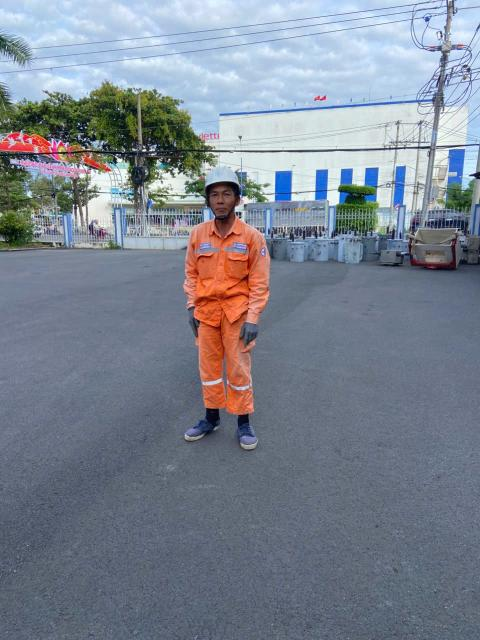gloves: (181, 301, 213, 341), (234, 314, 262, 352)
helmet: (195, 161, 246, 202)
shoes: (173, 397, 232, 442), (227, 407, 269, 452)
